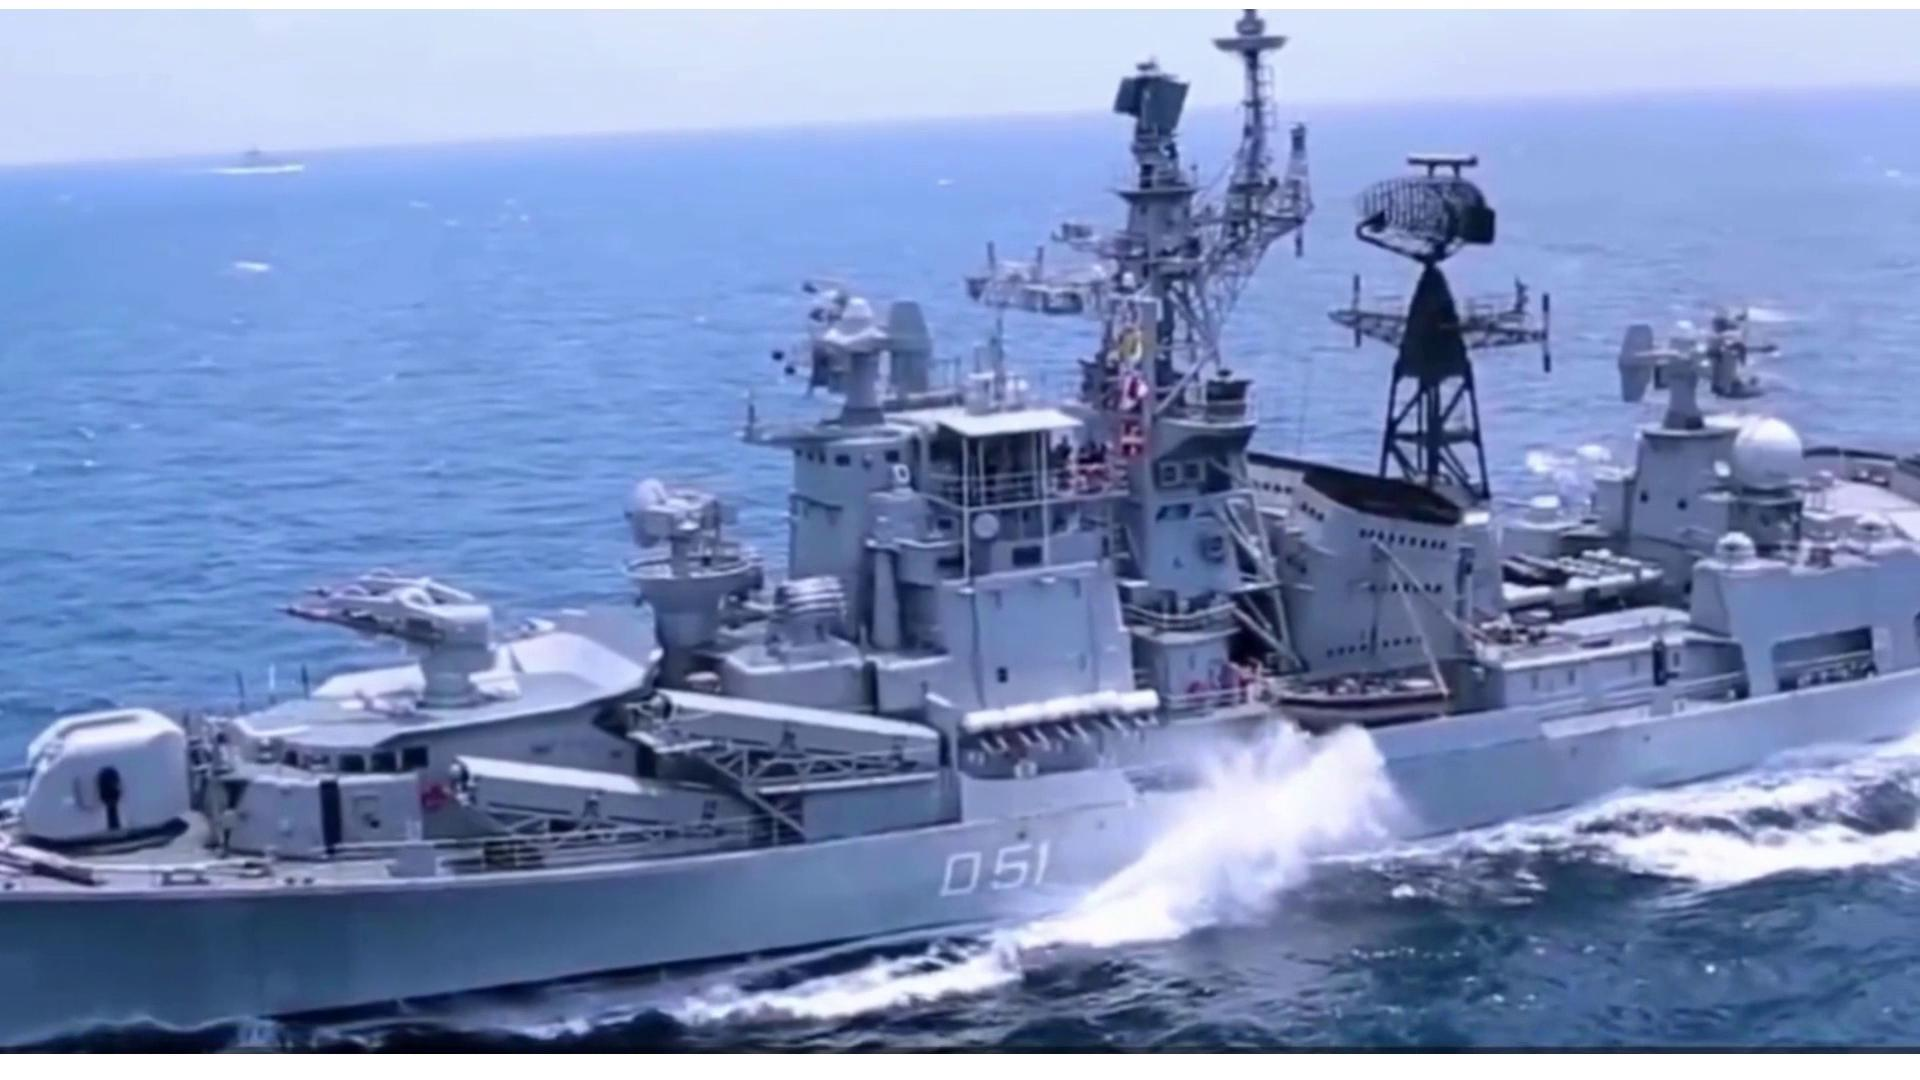OCR: (920, 829, 1071, 916)
